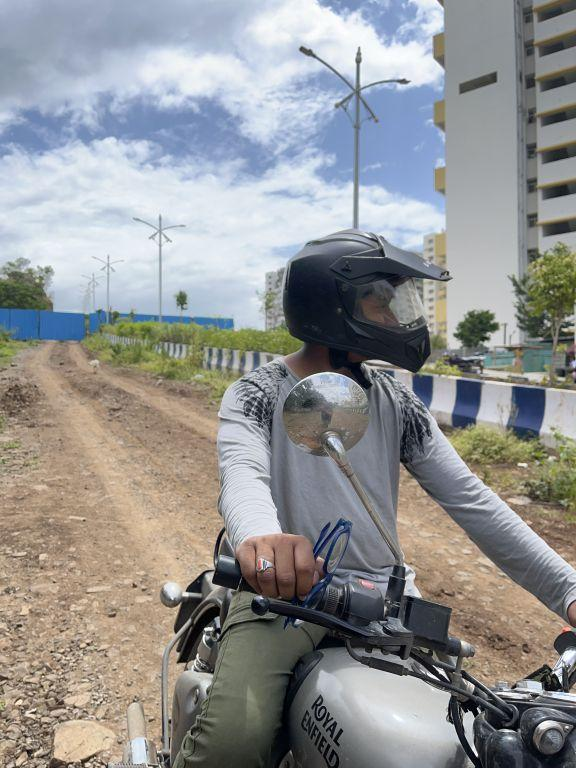helmet: (277, 215, 457, 387)
